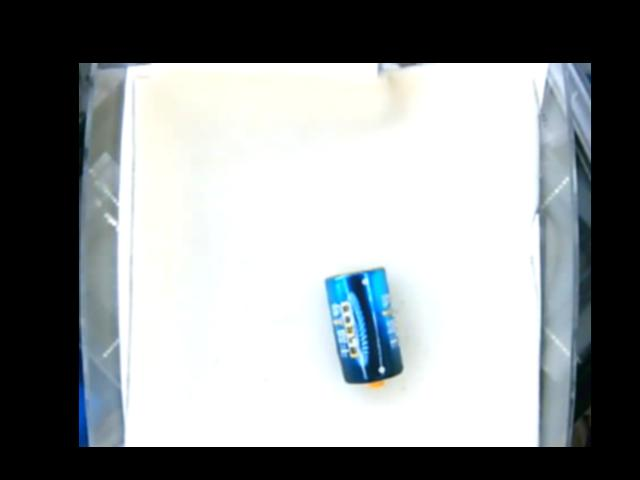Battery: (324, 265, 404, 391)
